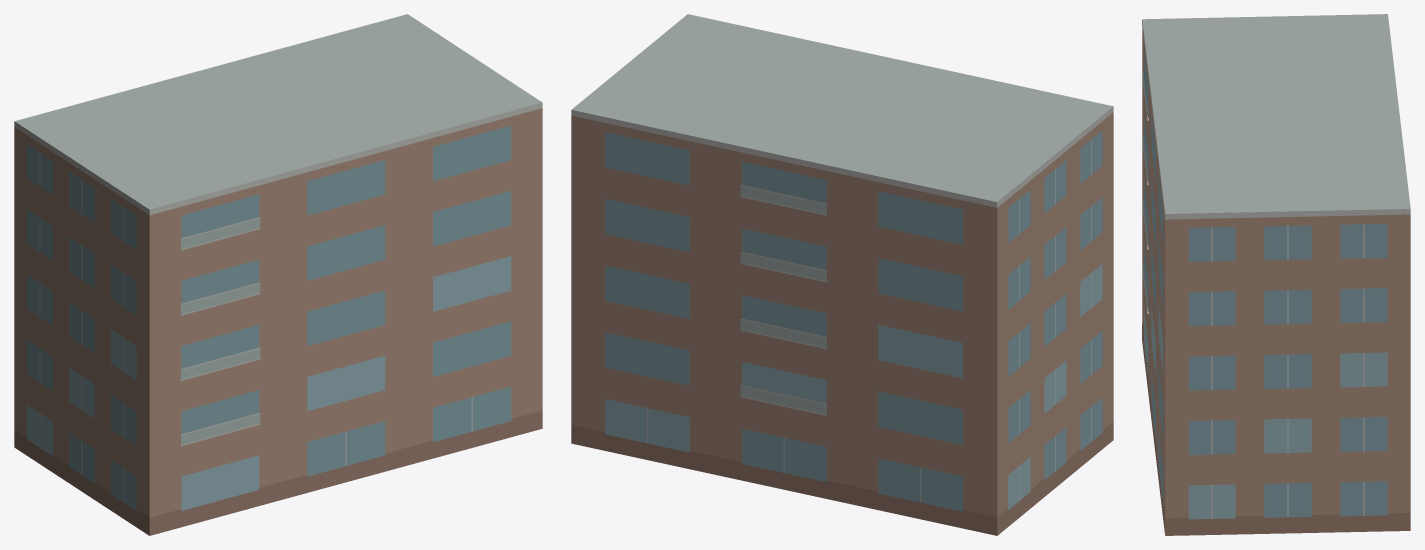
File: survey-upis-32705610.glb
3 views of the same model, side by side, from view 1: azimuth 30°, elevation 25°; view 2: azimuth 150°, elevation 25°; view 3: azimuth 270°, elevation 25° (orthographic). The views are drawn at different scales.
Visible parts, largest first — view 1: survey-upis-32705610.tmp; view 2: survey-upis-32705610.tmp; view 3: survey-upis-32705610.tmp.
Part boxes in pixels (x1,y1,x2,y2): survey-upis-32705610.tmp: (14,14,542,535); survey-upis-32705610.tmp: (571,14,1113,535); survey-upis-32705610.tmp: (1142,14,1410,535).
Bounding box in the file's own units: 18.86 × 14.15 × 10.71.
